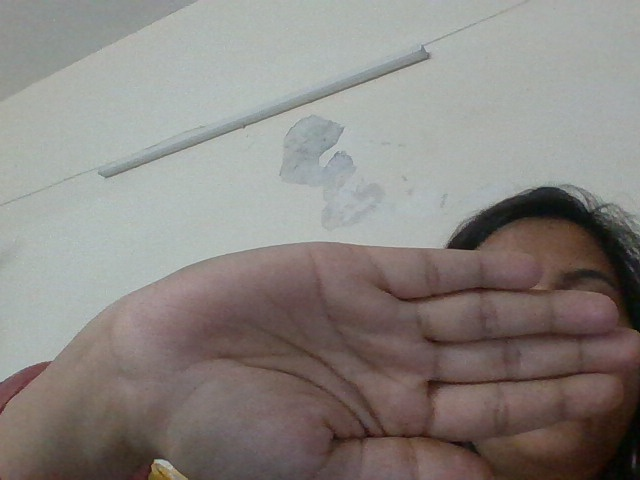rewind: (122, 224, 639, 476)
